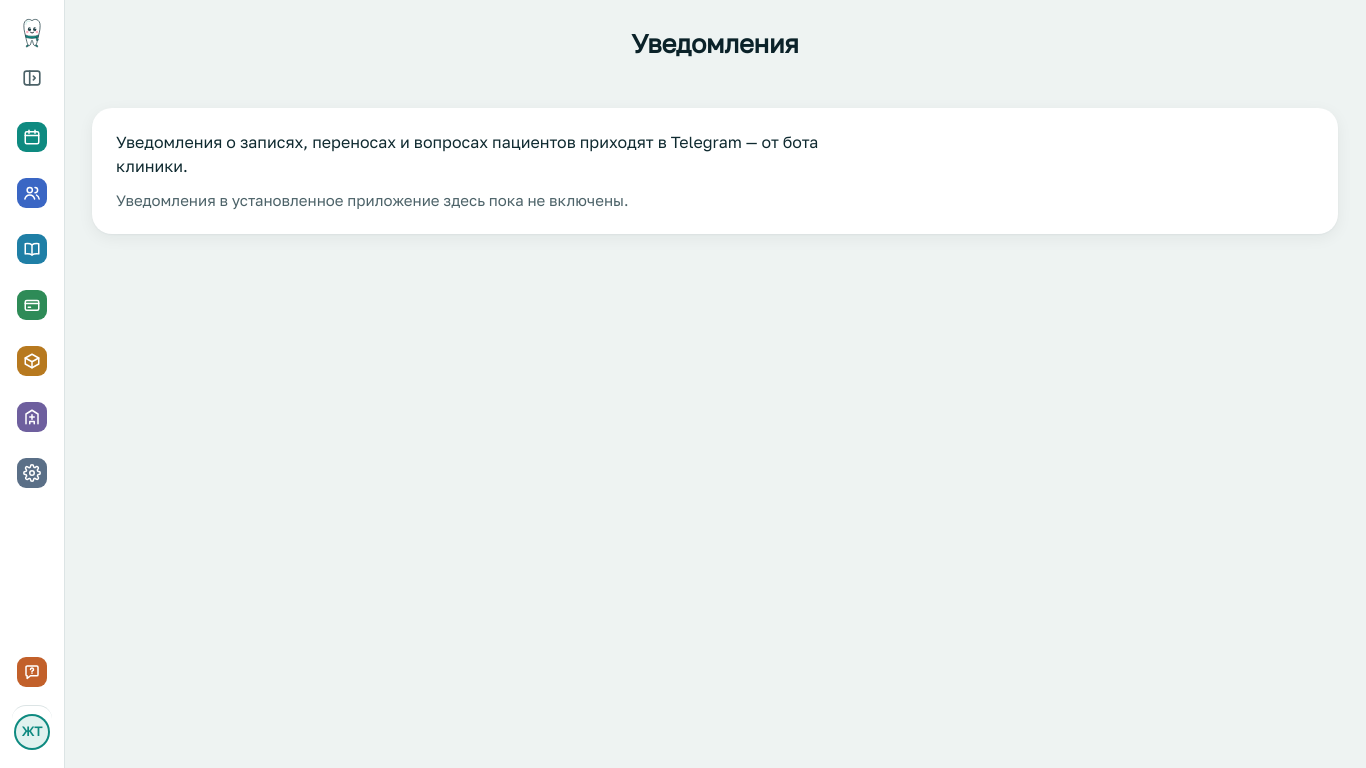
Test: без своего кресла (регистратура) — без «Календаря в телефоне»; старые адреса «Настроек» ведут в «Я»
Expected: the heading "Уведомления" is shown, [631,28,799,59]
What coordinates should you click on to do the following:
click the button with aria-label "Жанара Т., регистратура"
I would click on:
 (32, 728)
Its box is [12,705,52,752].
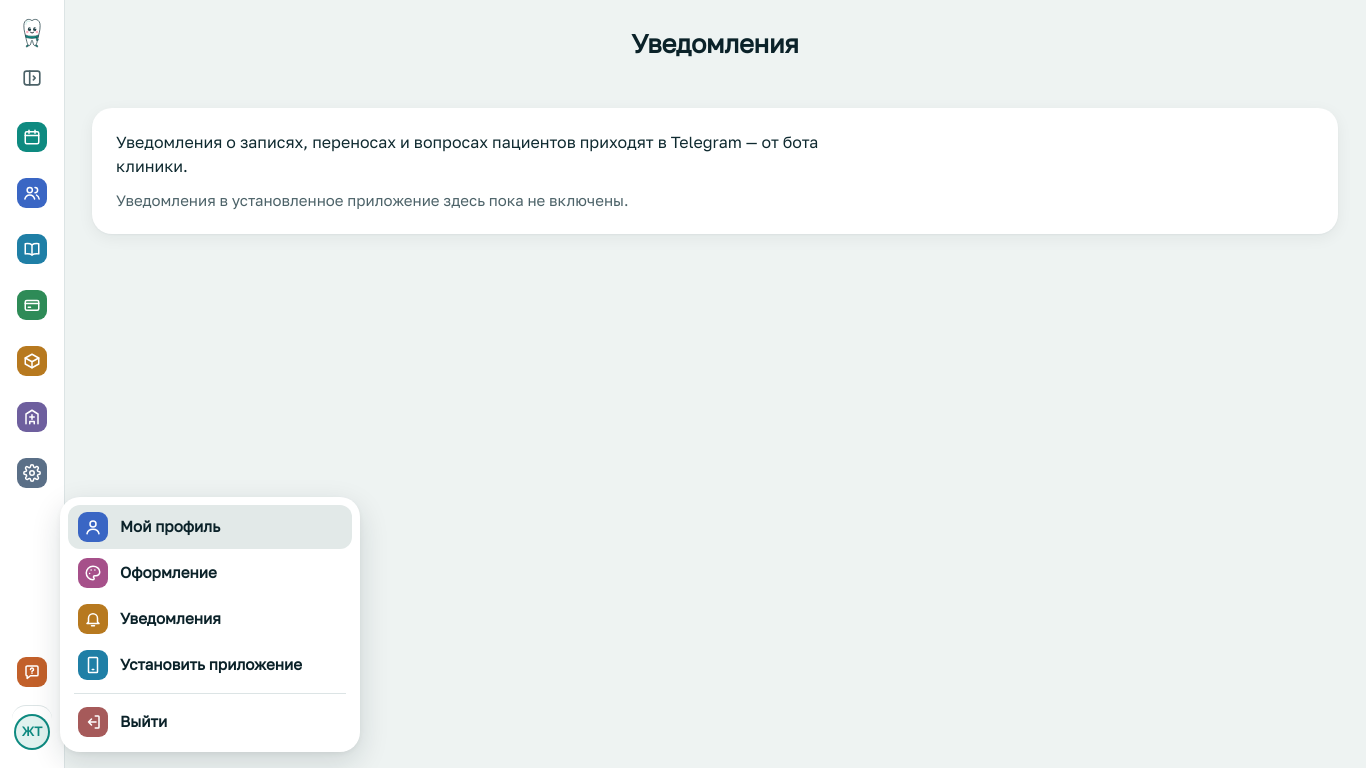
Now the button "Мой профиль" is shown, box [68,505,352,549]
